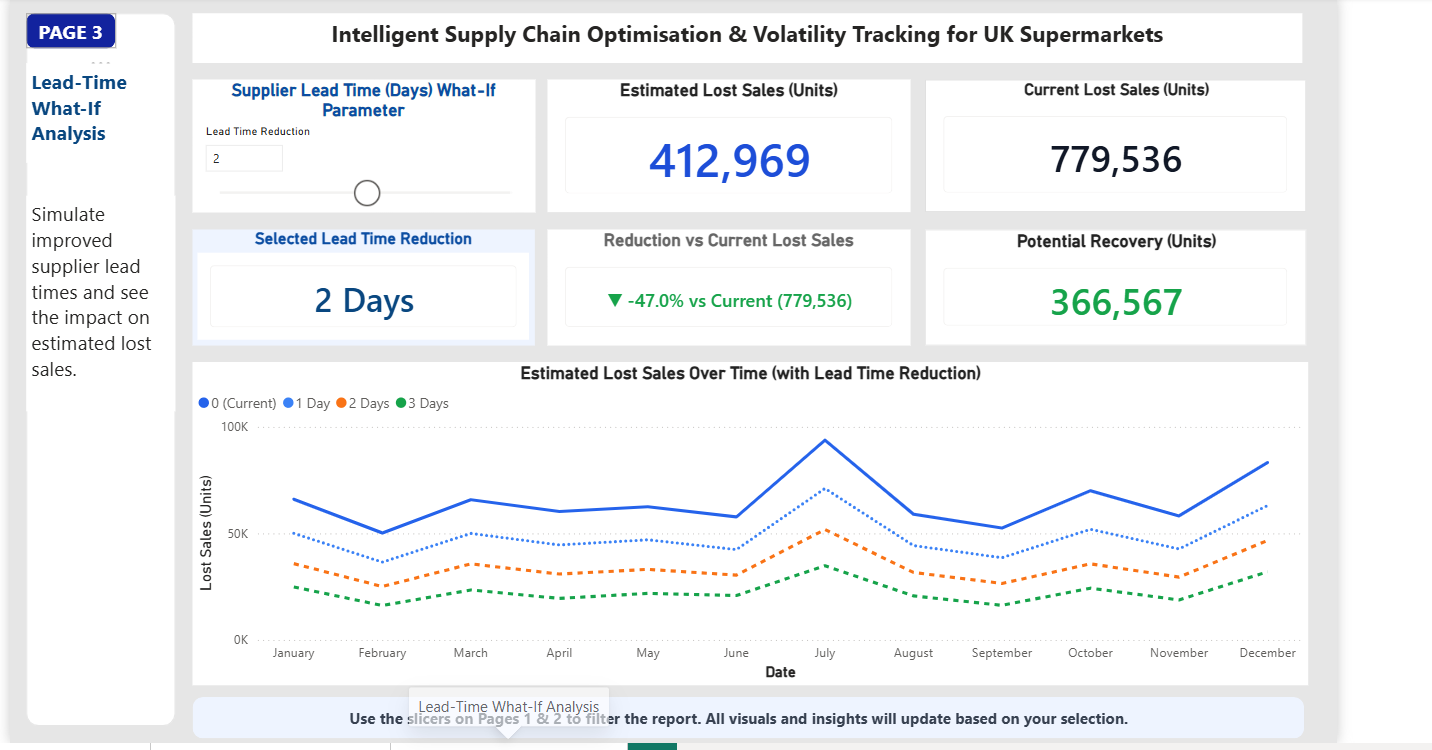

Layout of this report page (visuals, bound fields, positions):
{"tool":"powerbi","page":{"name":"Lead-Time What-If Analysis","canvas":[1280,720],"ordinal":2},"visuals":[{"type":"shape","box":[16,16,144,688],"z":0},{"type":"shape","box":[16,16,86,34],"z":1000},{"type":"textbox","box":[16,64,128,96],"z":2000},{"type":"textbox","box":[16,192,144,208],"z":3000},{"type":"textbox","box":[176,16,1071,48],"z":4000},{"type":"slicer","title":"Supplier Lead Time (Days) What-If Parameter","fields":{"Values":["Lead Time Reduction.Lead Time Reduction"]},"box":[176,80,330,128],"z":5000},{"type":"cardVisual","title":"Selected Lead Time Reduction","fields":{"Data":["Fact_Inventory.Selected Lead Time Reduction"]},"box":[176,224,330,112],"z":6000},{"type":"cardVisual","title":"Estimated Lost Sales (Units)","fields":{"Data":["Fact_Inventory.Estimated Lost Sales Display"]},"box":[519,80,350,128],"z":7000},{"type":"cardVisual","title":"Reduction vs Current Lost Sales","fields":{"Data":["Fact_Inventory.Lost Sales Reduction Summary"]},"box":[519,224,350,112],"z":8000},{"type":"cardVisual","title":"Current Lost Sales (Units)","fields":{"Data":["Fact_Inventory.Current Lost Sales Display"]},"box":[883,80,368,128],"z":9000},{"type":"cardVisual","title":"Potential Recovery (Units)","fields":{"Data":["Fact_Inventory.Potential Recovery Display"]},"box":[883,224,368,112],"z":10000},{"type":"lineChart","title":"Estimated Lost Sales Over Time (with Lead Time Reduction)","fields":{"Category":["Dim_Date.Month"],"Y":["Fact_Inventory.Current Lost Sales","Fact_Inventory.Lost Sales - 1 Day Reduction","Fact_Inventory.Lost Sales - 2 Day Reduction","Fact_Inventory.Lost Sales - 3 Day Reduction"]},"box":[176,352,1077,312],"z":11000},{"type":"shape","box":[176,676,1073,40],"z":12000},{"type":"textbox","box":[208,681,992,32],"z":13000}]}

Visuals, with their boxes on the page's 1280x720 design canvas (x1, y1, x2, y2). These are canvas units, not pixel positions in the 1432x750 screenshot, which may show the page scaled, cropped or inside an application window:
shape: (x1=16, y1=16, x2=160, y2=704)
shape: (x1=16, y1=16, x2=102, y2=50)
textbox: (x1=16, y1=64, x2=144, y2=160)
textbox: (x1=16, y1=192, x2=160, y2=400)
textbox: (x1=176, y1=16, x2=1247, y2=64)
"Supplier Lead Time (Days) What-If Parameter" slicer: (x1=176, y1=80, x2=506, y2=208)
"Selected Lead Time Reduction" cardVisual: (x1=176, y1=224, x2=506, y2=336)
"Estimated Lost Sales (Units)" cardVisual: (x1=519, y1=80, x2=869, y2=208)
"Reduction vs Current Lost Sales" cardVisual: (x1=519, y1=224, x2=869, y2=336)
"Current Lost Sales (Units)" cardVisual: (x1=883, y1=80, x2=1251, y2=208)
"Potential Recovery (Units)" cardVisual: (x1=883, y1=224, x2=1251, y2=336)
"Estimated Lost Sales Over Time (with Lead Time Reduction)" lineChart: (x1=176, y1=352, x2=1253, y2=664)
shape: (x1=176, y1=676, x2=1249, y2=716)
textbox: (x1=208, y1=681, x2=1200, y2=713)
